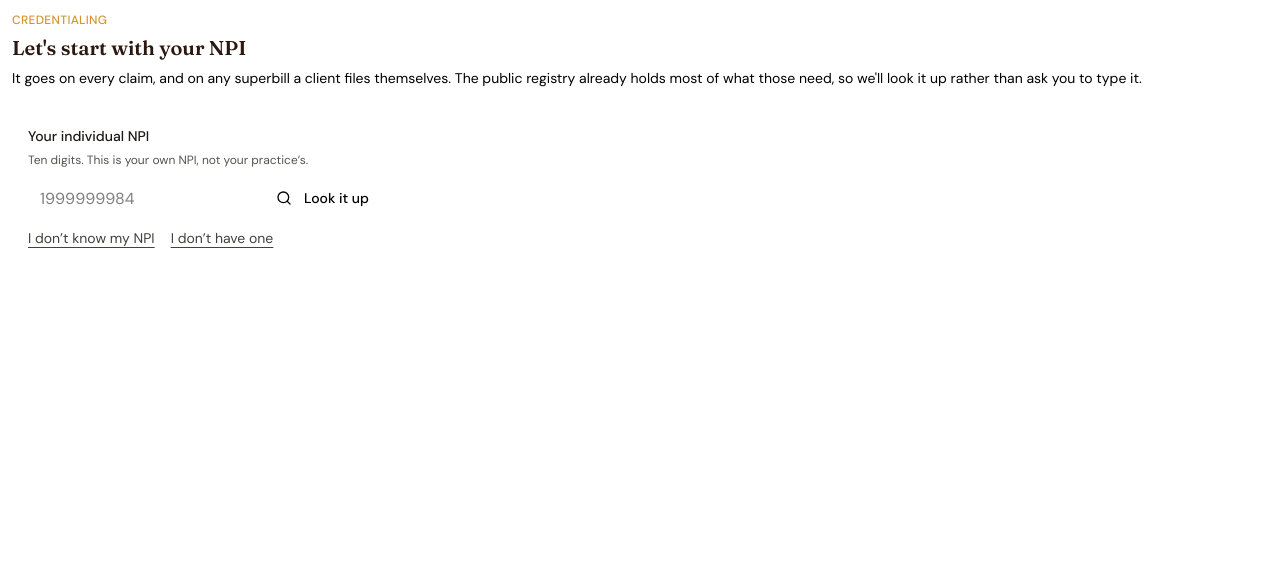
the three doors › says the rest of her setup is not blocked on it
The image size is (1274, 565).
Click the button "I don’t have one" at (222, 238), box [171,228,273,248]
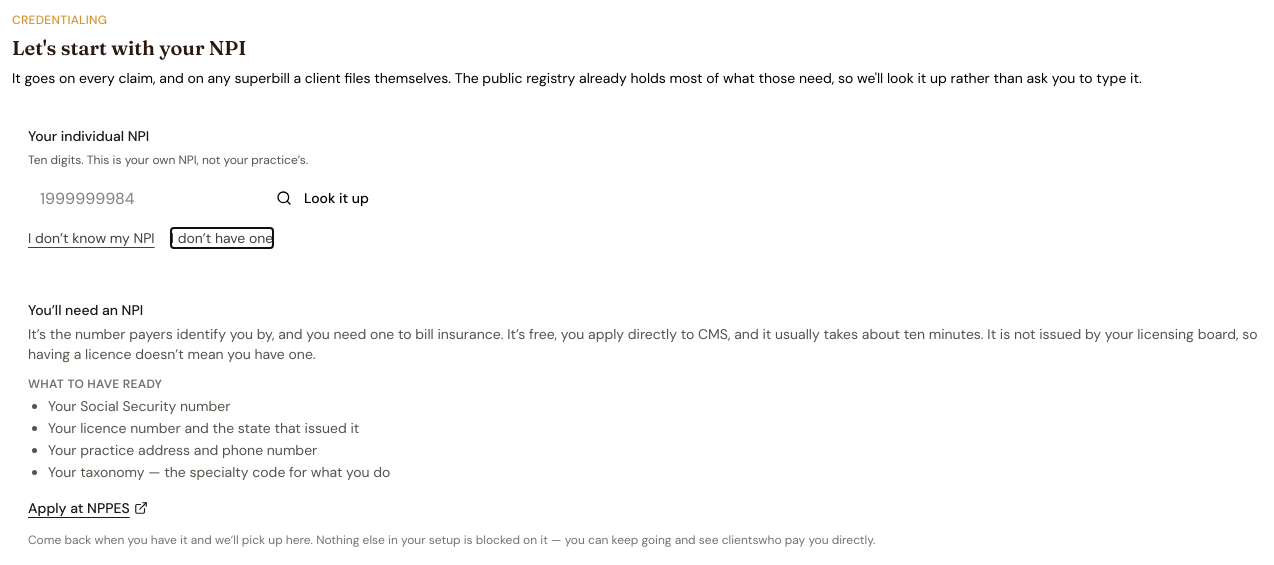
Result: the text "nothing else in your setup is blocked" is shown at [28,532,722,548]
